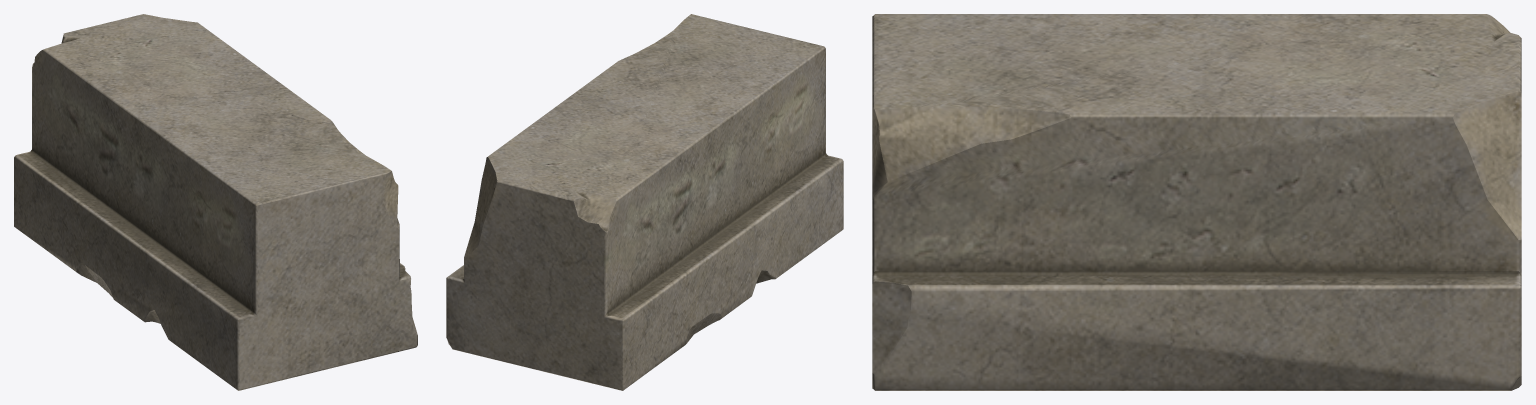
File: MOD_DebrisBricks_C.fbx
The picture shows the model from 3 angles, left to right: view 1: azimuth 30°, elevation 25°; view 2: azimuth 150°, elevation 25°; view 3: azimuth 270°, elevation 25°; orthographic projection. The views are drawn at different scales.
Parts seen in each view (by area): view 1: MOD_DebrisBricks_C; view 2: MOD_DebrisBricks_C; view 3: MOD_DebrisBricks_C.
Part boxes in pixels (x1,y1,x2,y2): MOD_DebrisBricks_C: (14, 14, 417, 390); MOD_DebrisBricks_C: (446, 14, 843, 390); MOD_DebrisBricks_C: (872, 14, 1521, 390).
Bounding box in the file's own units: 13 × 12.54 × 27.91.
